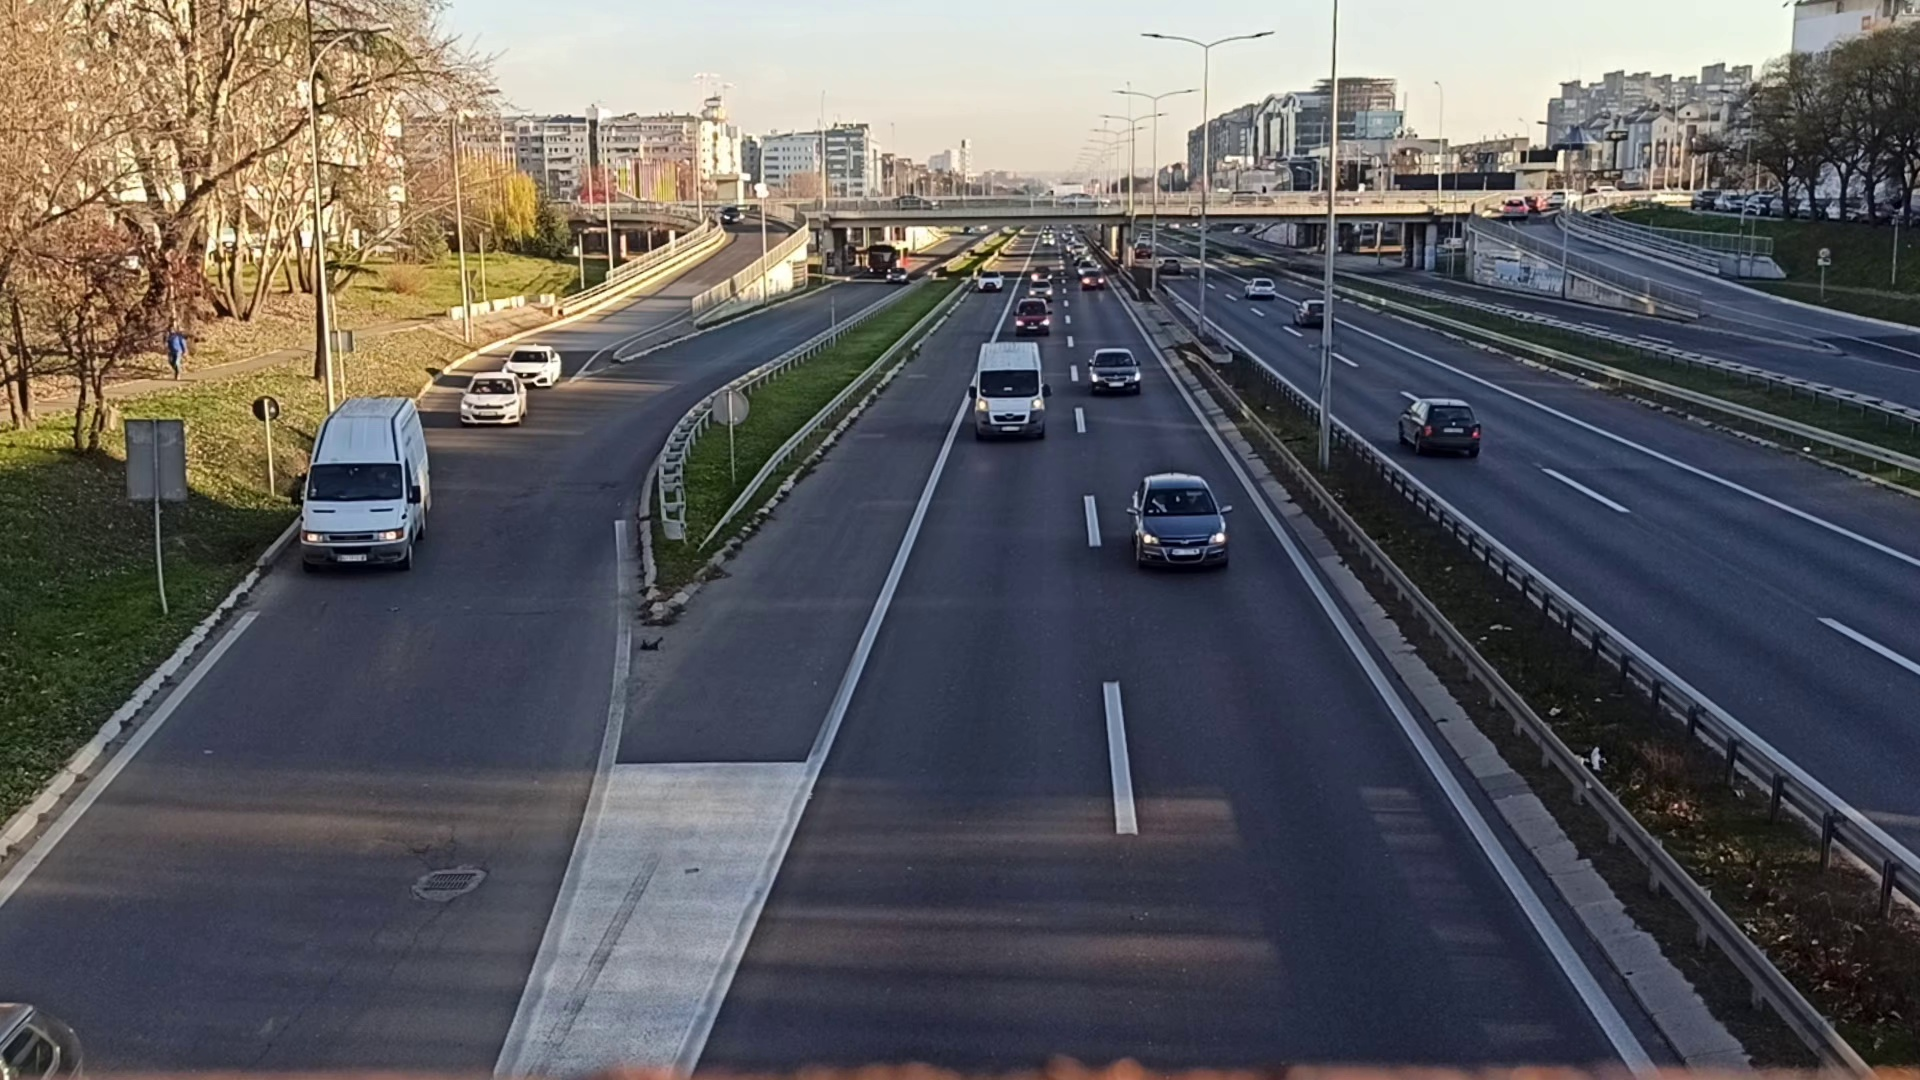car: (1130, 472, 1230, 575), (1399, 397, 1481, 459), (459, 371, 526, 429), (1087, 347, 1139, 396), (1015, 298, 1050, 334)
van: (301, 400, 430, 574), (975, 340, 1044, 436)
